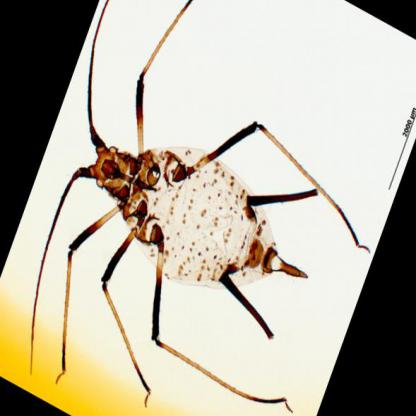uroleucon compositae: (42, 1, 330, 341)
